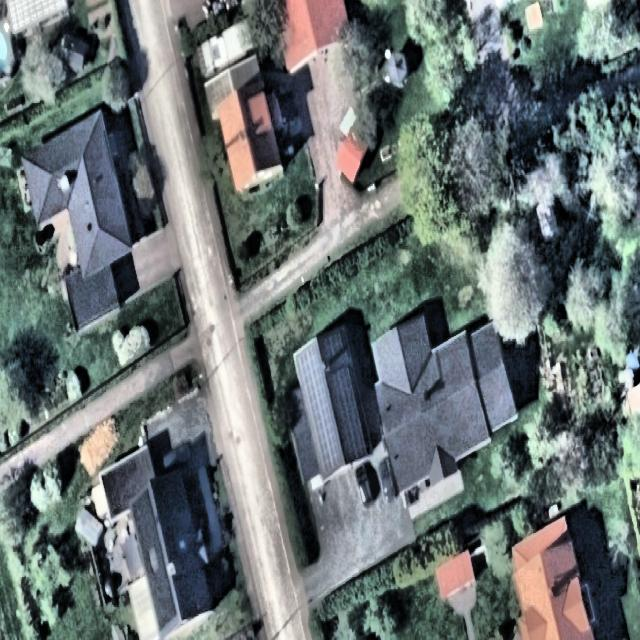roof_pv: (329, 360, 362, 460), (309, 397, 340, 476), (297, 344, 328, 409), (130, 490, 163, 544), (147, 578, 175, 638), (318, 328, 346, 366), (154, 532, 168, 581), (138, 544, 153, 582)
